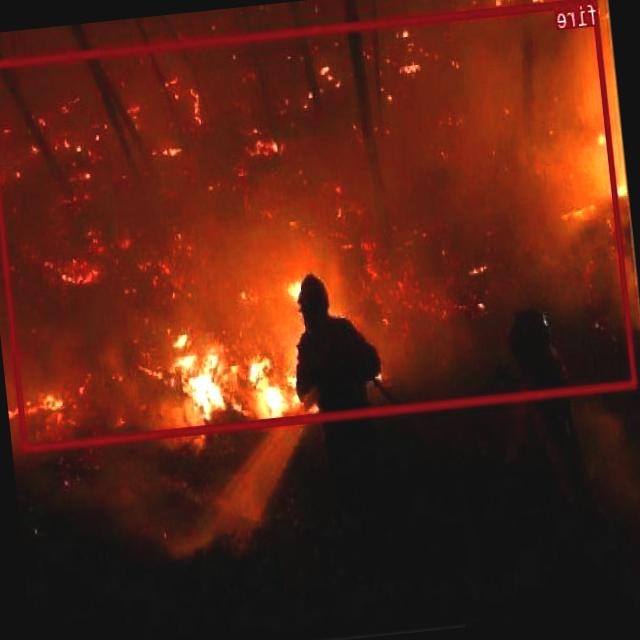fire: (0, 0, 638, 450)
